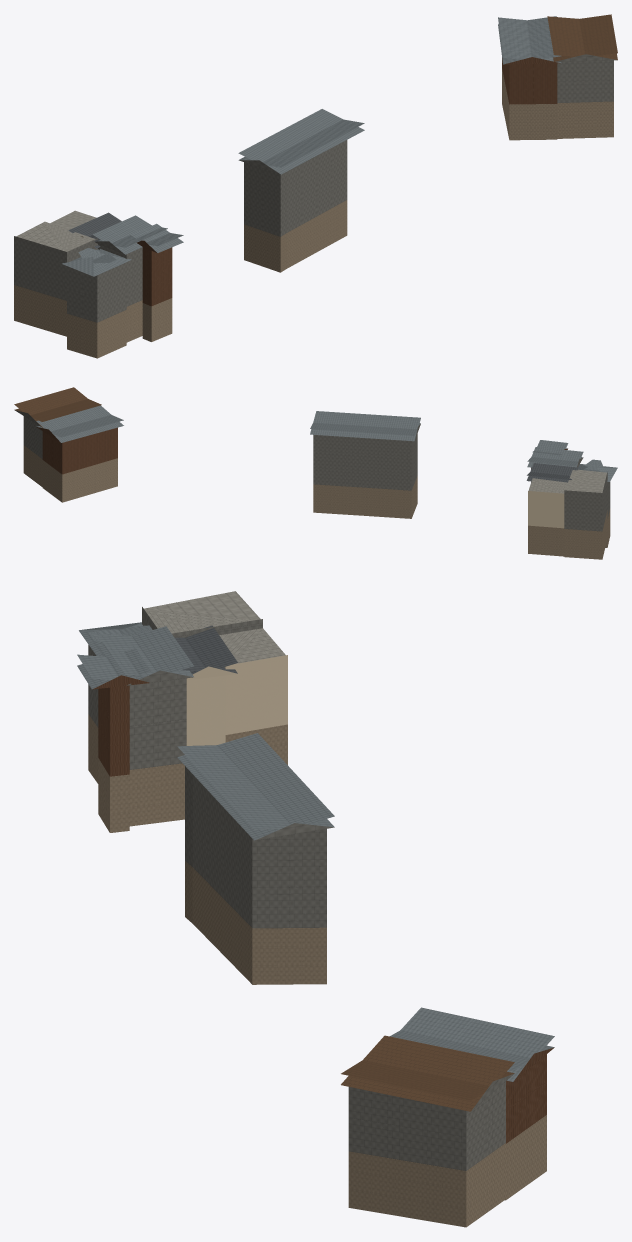
File: bld_c22_44_384.gltf
3 renders of one model, top to bottom at view 1: azimuth 30°, elevation 25°; view 2: azimuth 150°, elevation 25°; view 3: azimuth 270°, elevation 25°, orthographic. The views are drawn at different scales.
Parts seen in each view (by area): view 1: bld_c22_44_384; view 2: bld_c22_44_384; view 3: bld_c22_44_384.
Part boxes in pixels (<box>): bld_c22_44_384: <box>14,14,617,358</box>; bld_c22_44_384: <box>14,387,617,559</box>; bld_c22_44_384: <box>77,591,554,1227</box>.
Size of the model in its own units: 100 by 16.9 by 39.17.
Materials: 11 (11 with a texture image).
